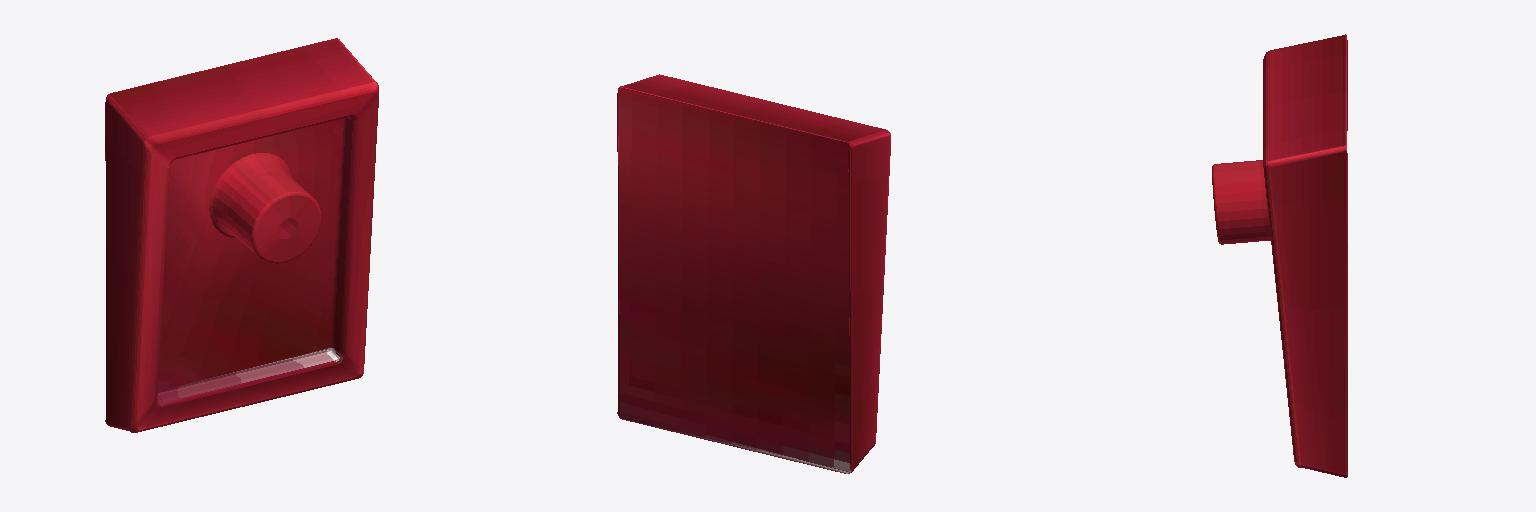
3 renders of one model, left to right at view 1: azimuth 30°, elevation 25°; view 2: azimuth 150°, elevation 25°; view 3: azimuth 270°, elevation 25°, orthographic.
Visible parts, largest first — view 1: soporte_resorte; view 2: soporte_resorte; view 3: soporte_resorte.
Part boxes in pixels (x1,y1,x2,y2): soporte_resorte: (105,38,378,432); soporte_resorte: (617,74,890,473); soporte_resorte: (1212,34,1347,477).
Size of the model in its own units: 1.42 by 1.93 by 0.7145.
1 materials, 1 textured.